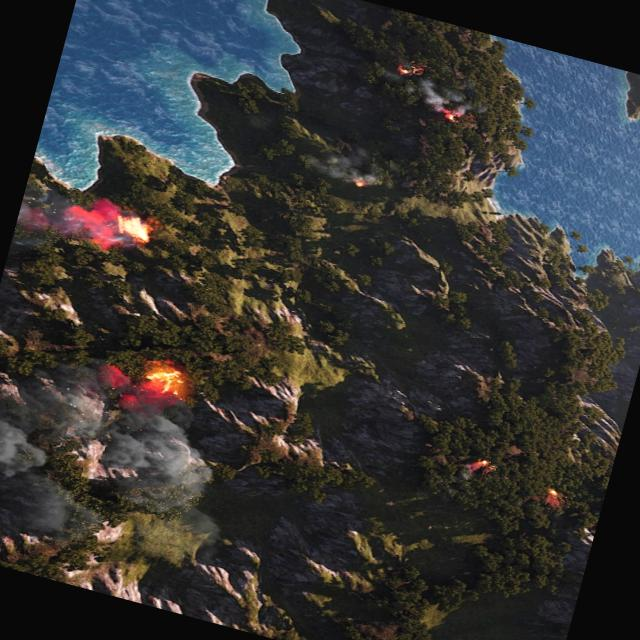fire: (124, 356, 190, 412), (394, 58, 426, 79), (464, 455, 492, 475), (540, 486, 564, 508), (436, 108, 460, 125), (349, 178, 365, 189)
smoke: (0, 331, 255, 618), (8, 180, 158, 290), (374, 58, 486, 124), (302, 135, 390, 194), (411, 76, 484, 122)
